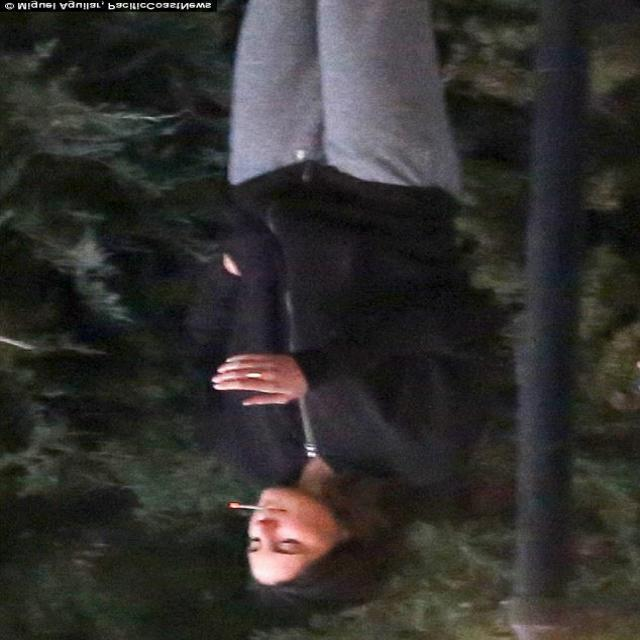cigarette: (220, 502, 278, 516)
